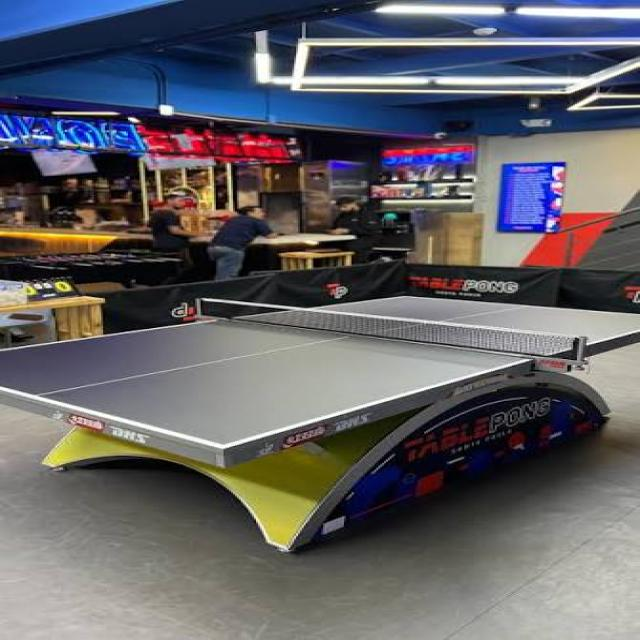TT Net: (194, 294, 594, 367)
TT Table: (0, 294, 638, 447)
